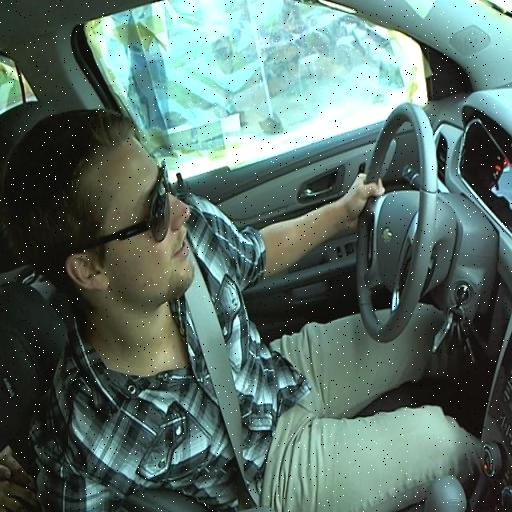turning: (22, 104, 456, 512)
